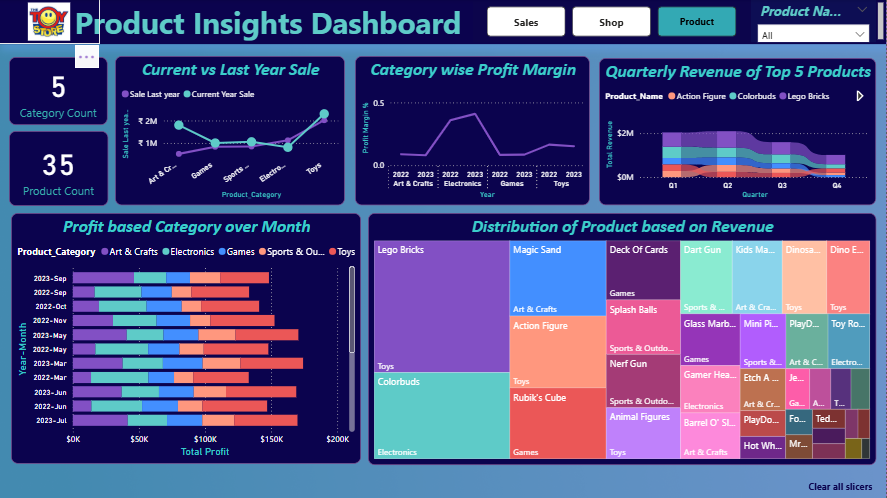

The dashboard page shown, as its layout file describes it:
{"tool":"powerbi","page":{"name":"Product","canvas":[1280,720],"ordinal":7},"visuals":[{"type":"textbox","box":[0,0,1279.8,65.2],"z":0},{"type":"actionButton","box":[1162.2,683.1,102,36.9],"z":1000},{"type":"pageNavigator","box":[684.6,2.8,399.7,59.5],"z":2000},{"type":"card","fields":{"Values":["Measure Table.Product Name Count"]},"box":[15.8,190.1,142.6,108],"z":3000},{"type":"card","fields":{"Values":["Measure Table.Total Transactions"]},"box":[15.6,83.6,141.7,97.8],"z":4000},{"type":"barChart","title":"Profit based Category over Month","fields":{"Category":["Calendar.Year-Month"],"Series":["products.Product_Category"],"Y":["Measure Table.Total Profit"]},"box":[18.7,308.2,504,361.4],"z":5000},{"type":"treemap","title":"Distribution of Product based on Revenue","fields":{"Group":["products.Product_Name"],"Values":["Measure Table.Total Revenue"],"Details":["products.Product_Category"]},"box":[532.8,308.2,731.5,362.9],"z":6000},{"type":"ribbonChart","title":"Quarterly Revenue of Top 5 Products","fields":{"Category":["Calendar.Quarter"],"Y":["Measure Table.Total Revenue"],"Series":["products.Product_Name"]},"box":[865.4,85,398.9,211.7],"z":7000},{"type":"lineChart","title":"Current vs Last Year Sale","fields":{"Category":["products.Product_Category"],"Y":["Measure Table.Sale Last year","Measure Table.Current Year Sale"]},"box":[168.5,82.1,331.2,214.6],"z":8000},{"type":"slicer","title":"Product Name","fields":{"Values":["products.Product_Name"]},"box":[1084.3,0,180,62.4],"z":9000},{"type":"image","box":[0,0,147.4,65.2],"z":10000},{"type":"areaChart","title":"Category wise Profit Margin","fields":{"Category":["products.Product_Category","Calendar.Year"],"Y":["Measure Table.Profit Margin %"]},"box":[514.1,82.1,338.4,214.6],"z":11000}]}

Visuals, with their boxes in screenshot pixels (x1, y1, x2, y2), scaled from the page's 1280x720 canvas onto the 887x498 screenshot:
textbox: (0,0,886,45)
actionButton: (805,472,876,497)
pageNavigator: (474,2,751,43)
card - Measure Table.Product Name Count: (11,131,110,206)
card - Measure Table.Total Transactions: (11,58,109,125)
"Profit based Category over Month" barChart: (13,213,362,463)
"Distribution of Product based on Revenue" treemap: (369,213,876,464)
"Quarterly Revenue of Top 5 Products" ribbonChart: (600,59,876,205)
"Current vs Last Year Sale" lineChart: (117,57,346,205)
"Product Name" slicer: (751,0,876,43)
image: (0,0,102,45)
"Category wise Profit Margin" areaChart: (356,57,591,205)
